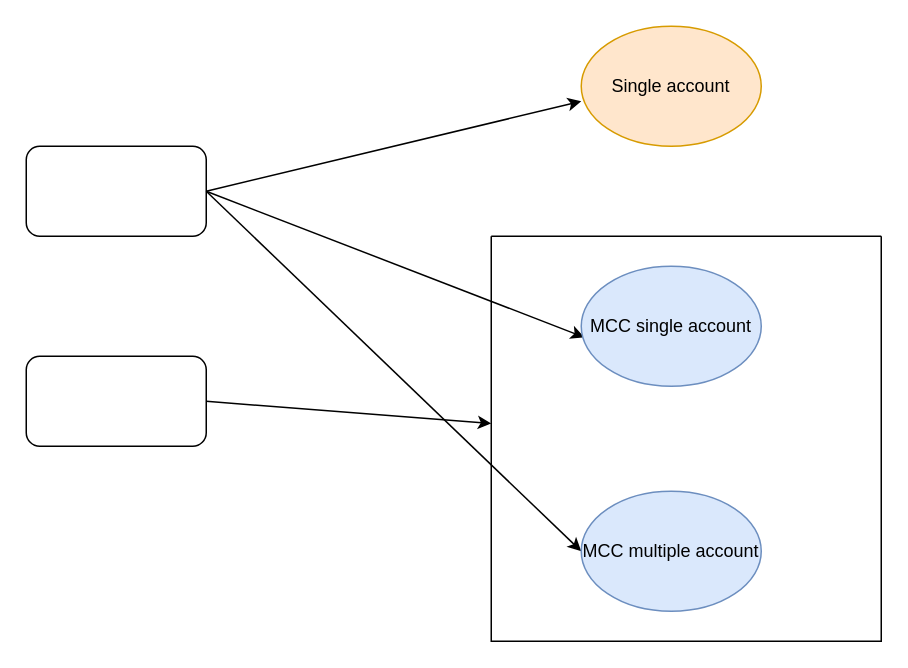
Some shapes in this 908 by 668 pixel diagram are drawn without their labels. The shapes that lost their labels are listed below. From the top down, each one's centre as x and y in pixels, then its label:
(x=115, y=190): Accout Level
(x=115, y=400): Customer level
